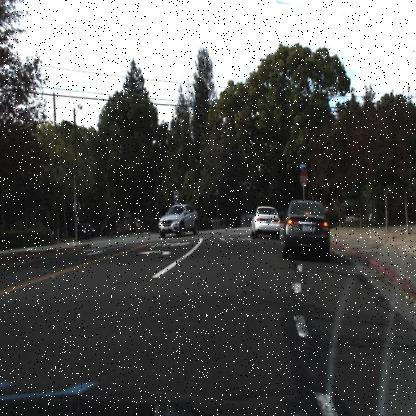car: (280, 196, 335, 257), (156, 200, 204, 240), (247, 199, 284, 243), (74, 216, 96, 241)
